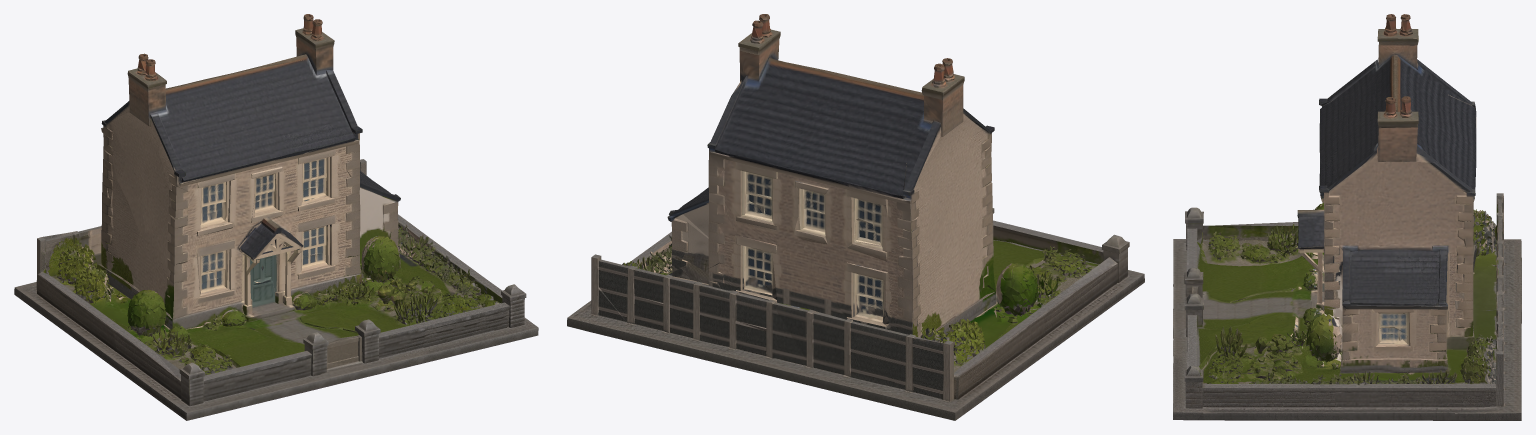
The model's file is building_small_d.glb.
3 renders of one model, left to right at view 1: azimuth 30°, elevation 25°; view 2: azimuth 150°, elevation 25°; view 3: azimuth 270°, elevation 25°, orthographic. The views are drawn at different scales.
Parts seen in each view (by area): view 1: output_unwrapped; view 2: output_unwrapped; view 3: output_unwrapped.
Part boxes in pixels (x1,y1,x2,y2): output_unwrapped: (14,14,538,420); output_unwrapped: (567,14,1144,420); output_unwrapped: (1173,14,1521,420).
Bounding box in the file's own units: 2 × 1.43 × 1.69.
1 material, 1 textured.
